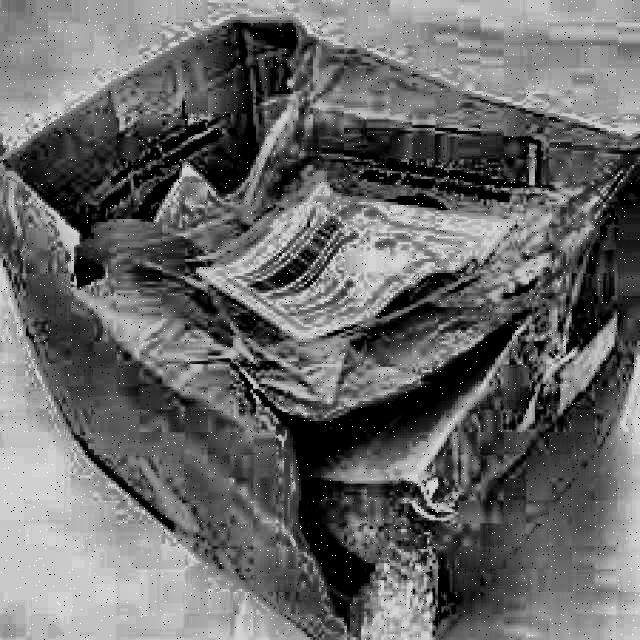box: (1, 7, 640, 639)
hole: (234, 318, 521, 640)
